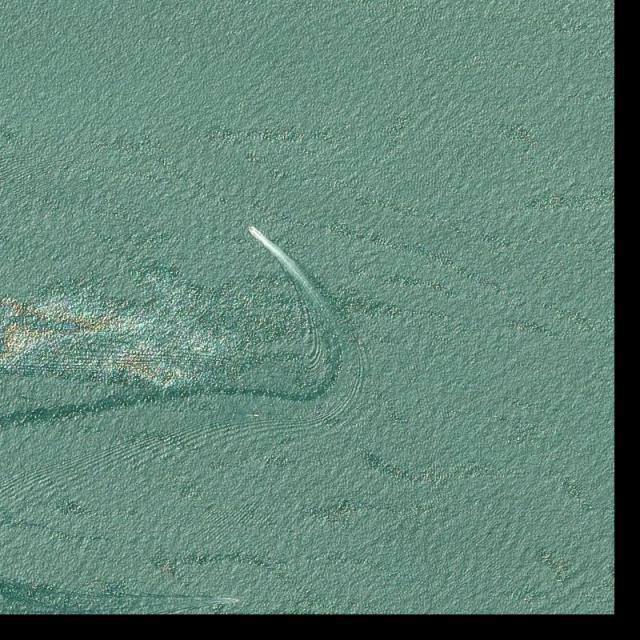ship: (247, 226, 255, 233), (254, 414, 260, 418), (234, 599, 241, 602)
